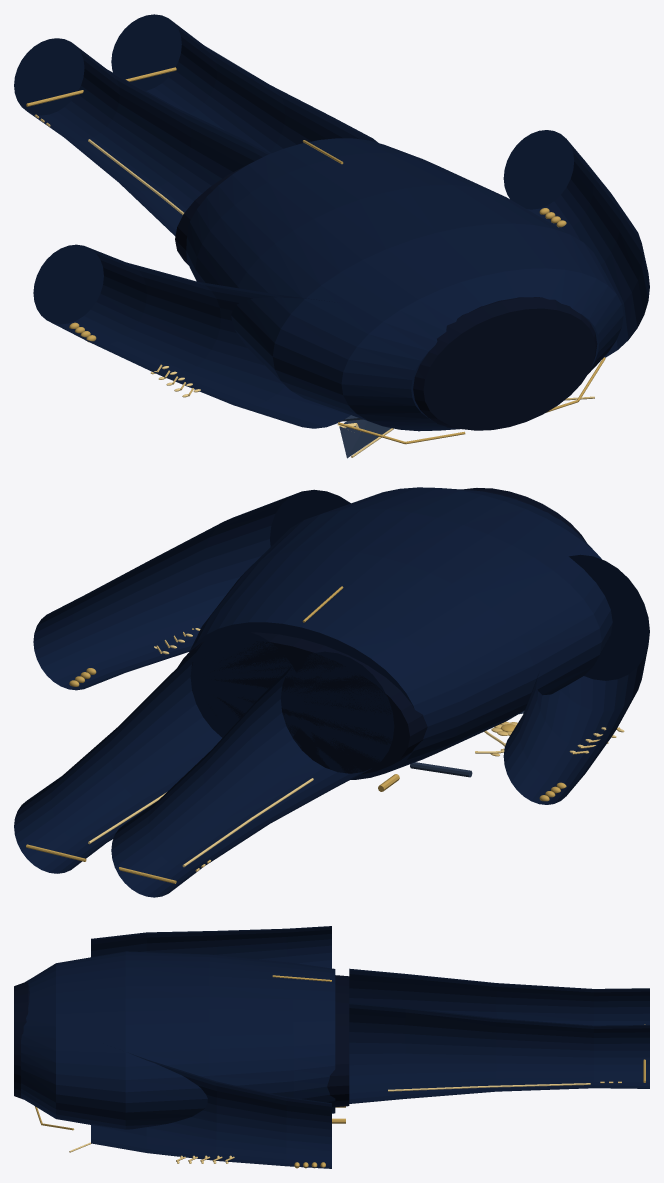
Rendered from italian_bespoke_suit.glb.
3 views of the same model, one above another, from view 1: azimuth 30°, elevation 25°; view 2: azimuth 150°, elevation 25°; view 3: azimuth 270°, elevation 25° (orthographic). The views are drawn at different scales.
Parts seen in each view (by area): view 1: Bespoke_jacket_body, Sleeve_L, Trouser_left, Collar_stand, Trouser_right, Sleeve_R, Left_satin_lapel, Trouser_waistband; view 2: Bespoke_jacket_body, Trouser_left, Trouser_right, Sleeve_R, Sleeve_L, Trouser_waistband, Collar_stand; view 3: Bespoke_jacket_body, Trouser_right, Sleeve_R, Trouser_left, Sleeve_L, Trouser_waistband, Collar_stand.
Part boxes in pixels (x1,y1,x2,y2): Bespoke_jacket_body: (186,138,623,431); Sleeve_L: (33,244,350,428); Trouser_left: (14,38,270,236); Collar_stand: (413,297,597,430); Trouser_right: (111,14,378,153); Sleeve_R: (503,130,649,357); Left_satin_lapel: (339,419,391,458); Trouser_waistband: (175,165,246,265); Bespoke_jacket_body: (189,487,612,779); Trouser_left: (111,651,394,897); Trouser_right: (14,629,304,873); Sleeve_R: (33,489,350,690); Sleeve_L: (503,554,649,804); Trouser_waistband: (177,632,427,774); Collar_stand: (461,488,586,542); Bespoke_jacket_body: (21,951,335,1129); Trouser_right: (349,1002,649,1103); Sleeve_R: (91,1052,331,1168); Trouser_left: (349,968,649,1025); Sleeve_L: (91,926,331,968); Trouser_waistband: (327,975,349,1106); Collar_stand: (14,981,29,1099).
Bounding box in the file's own units: 1.38 × 0.4405 × 1.82.
